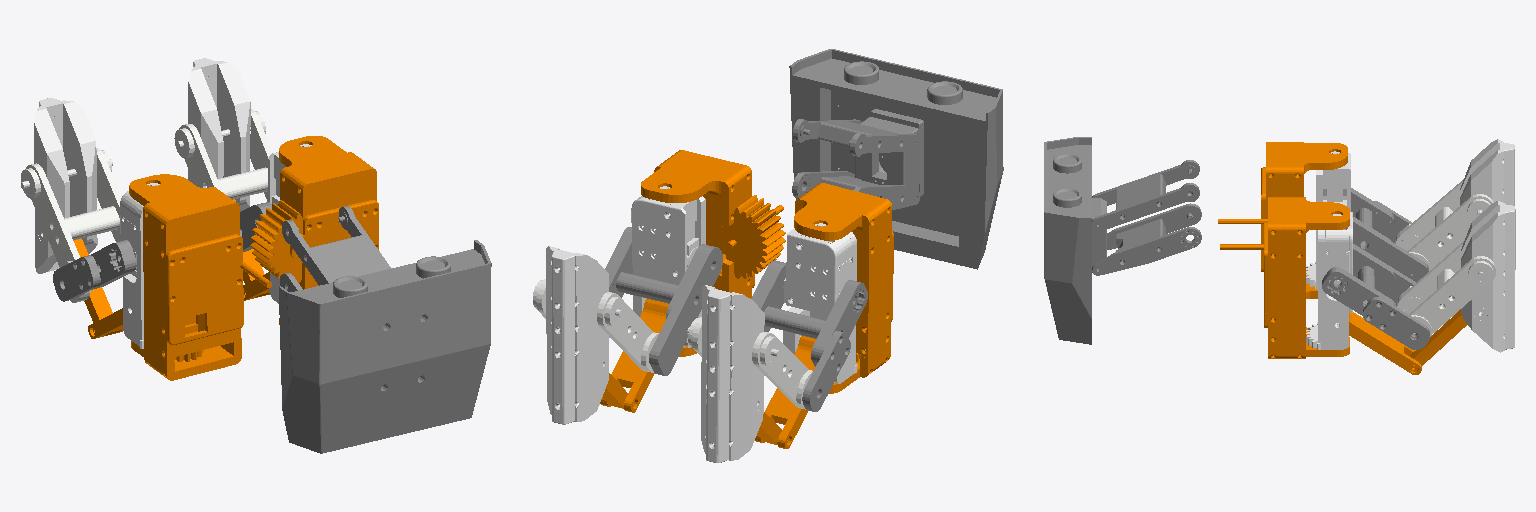
--- Render facts (derived) ---
Views: 3 orthographic renders of the robot side by side, from view 1: azimuth 30°, elevation 25°; view 2: azimuth 150°, elevation 25°; view 3: azimuth 270°, elevation 25°.
Model GEDroid-new.SLDASM with 22 links and 21 joints (16 continuous, 5 fixed), rooted at base_link, posed all joints at 0.
Links seen in each view (by area): view 1: link1, link6, link14, link12, link21, link10, link3, link18, link8, link7, link15, link11 (+2 smaller); view 2: link1, link14, link12, link21, link6, link8, link16, link7, link15, link3, link18, link10 (+4 smaller); view 3: link1, link14, link21, link16, link5, link18, link6, link3, link10, link15, link8, link12 (+4 smaller).
Link boxes in pixels (x1,y1,x2,y2): link1: [279, 240, 491, 453]; link6: [129, 174, 271, 380]; link14: [250, 136, 378, 324]; link12: [21, 98, 112, 273]; link21: [177, 58, 250, 211]; link10: [21, 148, 136, 302]; link3: [282, 206, 391, 285]; link18: [174, 109, 272, 201]; link8: [53, 240, 136, 301]; link7: [120, 183, 159, 348]; link15: [268, 144, 311, 303]; link11: [74, 239, 117, 336]; link1: [789, 49, 1003, 269]; link14: [641, 150, 785, 356]; link12: [687, 285, 779, 462]; link21: [546, 246, 622, 424]; link6: [794, 183, 893, 393]; link8: [751, 260, 867, 411]; link16: [605, 227, 722, 375]; link7: [783, 223, 857, 383]; link15: [631, 186, 705, 347]; link3: [793, 119, 920, 156]; link18: [533, 279, 658, 372]; link10: [688, 317, 812, 409]; link1: [1044, 137, 1091, 344]; link14: [1220, 197, 1349, 358]; link21: [1461, 201, 1515, 352]; link16: [1322, 244, 1429, 349]; link5: [1092, 203, 1201, 275]; link18: [1397, 240, 1495, 336]; link6: [1218, 142, 1347, 298]; link3: [1092, 160, 1199, 231]; link10: [1395, 179, 1493, 270]; link15: [1306, 212, 1352, 349]; link8: [1351, 188, 1428, 282]; link12: [1460, 139, 1514, 217].
Bounding box of the posed robot: 0.329 × 0.6574 × 0.2568 m (x, y, z).
Meshes: 22 distinct files referenced, 18 mesh visuals loaded (18 binary STL); not drawn: 4 (reference not matched to a file when rendering).

URDF robot description (GEDroid-new.SLDASM):
<?xml version="1.0" encoding="utf-8"?>
<!-- This URDF was automatically created by SolidWorks to URDF Exporter! Originally created by Stephen Brawner ([email redacted]) 
     Commit Version: 1.6.0-4-g7f85cfe  Build Version: 1.6.7995.38578
     For more information, please see http://wiki.ros.org/sw_urdf_exporter -->
<robot
  name="GEDroid-new.SLDASM">
  <link
    name="base_link">
    <inertial>
      <origin
        xyz="-0.0171680659676554 -0.137610530913037 0.0114698204231181"
        rpy="0 0 0" />
      <mass
        value="2.89181640391736" />
      <inertia
        ixx="0.0160644836095748"
        ixy="-7.92926913645102E-06"
        ixz="-7.97889809739415E-06"
        iyy="0.0148133437841239"
        iyz="0.000100838990521549"
        izz="0.00388511018553173" />
    </inertial>
    <visual>
      <origin
        xyz="0 0 0"
        rpy="0 0 0" />
      <geometry>
        <mesh
          filename="package://GEDroid-new.SLDASM/meshes/base_link.STL" />
      </geometry>
      <material
        name="">
        <color
          rgba="0.964705882352941 0.964705882352941 0.952941176470588 1" />
      </material>
    </visual>
    <collision>
      <origin
        xyz="0 0 0"
        rpy="0 0 0" />
      <geometry>
        <mesh
          filename="package://GEDroid-new.SLDASM/meshes/base_link.STL" />
      </geometry>
    </collision>
  </link>
  <link
    name="link3">
    <inertial>
      <origin
        xyz="-0.0156883250154336 0.0234336407860933 0.0662660362246067"
        rpy="0 0 0" />
      <mass
        value="0.141492024382892" />
      <inertia
        ixx="0.00014087753143704"
        ixy="-7.84067507326524E-19"
        ixz="-3.74884658345556E-18"
        iyy="0.000160668017730118"
        iyz="-4.12408877520651E-05"
        izz="5.86303587779097E-05" />
    </inertial>
    <visual>
      <origin
        xyz="0 0 0"
        rpy="0 0 0" />
      <geometry>
        <mesh
          filename="package://GEDroid-new.SLDASM/meshes/link3.STL" />
      </geometry>
      <material
        name="">
        <color
          rgba="0.627450980392157 0.627450980392157 0.627450980392157 1" />
      </material>
    </visual>
    <collision>
      <origin
        xyz="0 0 0"
        rpy="0 0 0" />
      <geometry>
        <mesh
          filename="package://GEDroid-new.SLDASM/meshes/link3.STL" />
      </geometry>
    </collision>
  </link>
  <joint
    name="joint3"
    type="continuous">
    <origin
      xyz="0 -0.214944053003405 0.132709052825817"
      rpy="2.27521799628306 0 0" />
    <parent
      link="base_link" />
    <child
      link="link3" />
    <axis
      xyz="1 0 0" />
  </joint>
  <link
    name="link5">
    <inertial>
      <origin
        xyz="-0.0171735409335834 0.0226936862307067 0.0639654406322349"
        rpy="0 0 0" />
      <mass
        value="0.152064515546557" />
      <inertia
        ixx="0.000149446997147015"
        ixy="3.46945124618924E-08"
        ixz="9.98764762980526E-08"
        iyy="0.000166143101497851"
        iyz="-4.30878667154814E-05"
        izz="6.14784192929815E-05" />
    </inertial>
    <visual>
      <origin
        xyz="0 0 0"
        rpy="0 0 0" />
      <geometry>
        <mesh
          filename="package://GEDroid-new.SLDASM/meshes/link5.STL" />
      </geometry>
      <material
        name="">
        <color
          rgba="0.627450980392157 0.627450980392157 0.627450980392157 1" />
      </material>
    </visual>
    <collision>
      <origin
        xyz="0 0 0"
        rpy="0 0 0" />
      <geometry>
        <mesh
          filename="package://GEDroid-new.SLDASM/meshes/link5.STL" />
      </geometry>
    </collision>
  </link>
  <joint
    name="joint5"
    type="continuous">
    <origin
      xyz="0 -0.214944053003395 0.0626985300479472"
      rpy="2.27511756114906 0 0" />
    <parent
      link="base_link" />
    <child
      link="link5" />
    <axis
      xyz="1 0 0" />
  </joint>
  <link
    name="link4">
    <inertial>
      <origin
        xyz="-0.0169816009653617 0.120192284641954 0.407900747584906"
        rpy="0 0 0" />
      <mass
        value="2.41045606315177" />
      <inertia
        ixx="0.00800362859132821"
        ixy="-7.8112924665467E-06"
        ixz="4.23304714322119E-06"
        iyy="0.0135600450829479"
        iyz="-0.000655726051792349"
        izz="0.0201850951375899" />
    </inertial>
    <visual>
      <origin
        xyz="0 0 0"
        rpy="0 0 0" />
      <geometry>
        <mesh
          filename="package://GEDroid-new.SLDASM/meshes/link4.STL" />
      </geometry>
      <material
        name="">
        <color
          rgba="0.627450980392157 0.627450980392157 0.627450980392157 1" />
      </material>
    </visual>
    <collision>
      <origin
        xyz="0 0 0"
        rpy="0 0 0" />
      <geometry>
        <mesh
          filename="package://GEDroid-new.SLDASM/meshes/link4.STL" />
      </geometry>
    </collision>
  </link>
  <joint
    name="joint4"
    type="fixed">
    <origin
      xyz="0.0010999999999995 -0.276030052204441 -0.0904400054494847"
      rpy="-0.704448986134054 0 0" />
    <parent
      link="link5" />
    <child
      link="link4" />
    <axis
      xyz="0 0 0" />
  </joint>
  <link
    name="link2">
    <inertial>
      <origin
        xyz="-0.0169816009653617 0.120192284642187 0.407900747584995"
        rpy="0 0 0" />
      <mass
        value="2.41045606315177" />
      <inertia
        ixx="0.00800362859132821"
        ixy="-7.81129246654483E-06"
        ixz="4.23304714322087E-06"
        iyy="0.0135600450829479"
        iyz="-0.00065572605179235"
        izz="0.0201850951375899" />
    </inertial>
    <visual>
      <origin
        xyz="0 0 0"
        rpy="0 0 0" />
      <geometry>
        <mesh
          filename="package://GEDroid-new.SLDASM/meshes/link2.STL" />
      </geometry>
      <material
        name="">
        <color
          rgba="0.627450980392157 0.627450980392157 0.627450980392157 1" />
      </material>
    </visual>
    <collision>
      <origin
        xyz="0 0 0"
        rpy="0 0 0" />
      <geometry>
        <mesh
          filename="package://GEDroid-new.SLDASM/meshes/link2.STL" />
      </geometry>
    </collision>
  </link>
  <joint
    name="joint2"
    type="fixed">
    <origin
      xyz="0 0 0"
      rpy="0 0 0" />
    <parent
      link="link4" />
    <child
      link="link2" />
    <axis
      xyz="0 0 0" />
  </joint>
  <link
    name="link1">
    <inertial>
      <origin
        xyz="-0.00118310761270998 0.0345691070633183 0.0590434562565884"
        rpy="0 0 0" />
      <mass
        value="4.46959125265905" />
      <inertia
        ixx="0.0151461602054954"
        ixy="-9.73707243387995E-05"
        ixz="1.81670489698321E-05"
        iyy="0.0264523384789441"
        iyz="-0.00109048349604576"
        izz="0.0390713055528011" />
    </inertial>
    <visual>
      <origin
        xyz="0 0 0"
        rpy="0 0 0" />
      <geometry>
        <mesh
          filename="package://GEDroid-new.SLDASM/meshes/link1.STL" />
      </geometry>
      <material
        name="">
        <color
          rgba="0.627450980392157 0.627450980392157 0.627450980392157 1" />
      </material>
    </visual>
    <collision>
      <origin
        xyz="0 0 0"
        rpy="0 0 0" />
      <geometry>
        <mesh
          filename="package://GEDroid-new.SLDASM/meshes/link1.STL" />
      </geometry>
    </collision>
  </link>
  <joint
    name="joint1"
    type="continuous">
    <origin
      xyz="-0.0162883250154295 0.0920774016114892 0.361154689212294"
      rpy="0 0 -0.0127723155758449" />
    <parent
      link="link2" />
    <child
      link="link1" />
    <axis
      xyz="0 0 0.999999999998669" />
  </joint>
  <link
    name="link6">
    <inertial>
      <origin
        xyz="0.0512412740624006 -0.0186558215582564 -0.080302832204397"
        rpy="0 0 0" />
      <mass
        value="0.875753101445047" />
      <inertia
        ixx="0.00130986342000538"
        ixy="1.73885499806199E-05"
        ixz="-2.82198811183346E-05"
        iyy="0.000721420197925581"
        iyz="-5.23092881416495E-05"
        izz="0.00131948142167411" />
    </inertial>
    <visual>
      <origin
        xyz="0 0 0"
        rpy="0 0 0" />
      <geometry>
        <mesh
          filename="package://GEDroid-new.SLDASM/meshes/link6.STL" />
      </geometry>
      <material
        name="">
        <color
          rgba="1 0.568627450980392 0 1" />
      </material>
    </visual>
    <collision>
      <origin
        xyz="0 0 0"
        rpy="0 0 0" />
      <geometry>
        <mesh
          filename="package://GEDroid-new.SLDASM/meshes/link6.STL" />
      </geometry>
    </collision>
  </link>
  <joint
    name="joint6"
    type="continuous">
    <origin
      xyz="-0.0594766500308766 0 0.0499999999999993"
      rpy="1.5707963267949 0.0442781073947316 -3.14159265358979" />
    <parent
      link="base_link" />
    <child
      link="link6" />
    <axis
      xyz="0 0 1" />
  </joint>
  <link
    name="link7">
    <inertial>
      <origin
        xyz="-0.00216652497389841 -0.0156926949911633 -0.00562187419421987"
        rpy="0 0 0" />
      <mass
        value="0.45837132802261" />
      <inertia
        ixx="0.000718579467841965"
        ixy="-3.54999622179201E-06"
        ixz="-2.8140513263357E-06"
        iyy="0.000225027564088276"
        iyz="6.16006189858157E-05"
        izz="0.000848031886301961" />
    </inertial>
    <visual>
      <origin
        xyz="0 0 0"
        rpy="0 0 0" />
      <geometry>
        <mesh
          filename="package://GEDroid-new.SLDASM/meshes/link7.STL" />
      </geometry>
      <material
        name="">
        <color
          rgba="0.96078431372549 0.96078431372549 0.964705882352941 1" />
      </material>
    </visual>
    <collision>
      <origin
        xyz="0 0 0"
        rpy="0 0 0" />
      <geometry>
        <mesh
          filename="package://GEDroid-new.SLDASM/meshes/link7.STL" />
      </geometry>
    </collision>
  </link>
  <joint
    name="joint7"
    type="continuous">
    <origin
      xyz="0.0609551702062409 0.00105847856445156 -0.0125139999999875"
      rpy="0 0.0276219332956401 0" />
    <parent
      link="link6" />
    <child
      link="link7" />
    <axis
      xyz="0 1 0" />
  </joint>
  <link
    name="link8">
    <inertial>
      <origin
        xyz="-0.00653539807492051 -0.0405954231712672 0.040597232802714"
        rpy="0 0 0" />
      <mass
        value="0.238182644819532" />
      <inertia
        ixx="0.000349756035321919"
        ixy="-4.13281181981358E-06"
        ixz="3.9525513379463E-06"
        iyy="0.000181258287787399"
        iyz="0.000145459473153057"
        izz="0.000215676280131395" />
    </inertial>
    <visual>
      <origin
        xyz="0 0 0"
        rpy="0 0 0" />
      <geometry>
        <mesh
          filename="package://GEDroid-new.SLDASM/meshes/link8.STL" />
      </geometry>
      <material
        name="">
        <color
          rgba="0.627450980392157 0.627450980392157 0.627450980392157 1" />
      </material>
    </visual>
    <collision>
      <origin
        xyz="0 0 0"
        rpy="0 0 0" />
      <geometry>
        <mesh
          filename="package://GEDroid-new.SLDASM/meshes/link8.STL" />
      </geometry>
    </collision>
  </link>
  <joint
    name="joint8"
    type="continuous">
    <origin
      xyz="-0.00146822424739357 -0.00989154548080343 -4.056550952127E-05"
      rpy="-0.245697682753295 0 0" />
    <parent
      link="link7" />
    <child
      link="link8" />
    <axis
      xyz="1 0 0" />
  </joint>
  <link
    name="link10">
    <inertial>
      <origin
        xyz="-2.27327725795118E-05 0.0386787629718439 0.0401895200274374"
        rpy="0 0 0" />
      <mass
        value="0.162169448593694" />
      <inertia
        ixx="0.000328813345469538"
        ixy="9.98368587846297E-06"
        ixz="1.02109077903781E-05"
        iyy="0.000186580494256216"
        iyz="-0.000144543544484592"
        izz="0.000179724663519201" />
    </inertial>
    <visual>
      <origin
        xyz="0 0 0"
        rpy="0 0 0" />
      <geometry>
        <mesh
          filename="package://GEDroid-new.SLDASM/meshes/link10.STL" />
      </geometry>
      <material
        name="">
        <color
          rgba="0.964705882352941 0.964705882352941 0.952941176470588 1" />
      </material>
    </visual>
    <collision>
      <origin
        xyz="0 0 0"
        rpy="0 0 0" />
      <geometry>
        <mesh
          filename="package://GEDroid-new.SLDASM/meshes/link10.STL" />
      </geometry>
    </collision>
  </link>
  <joint
    name="joint10"
    type="continuous">
    <origin
      xyz="0 -0.0895685175599561 0.092541526184674"
      rpy="0.263294622664939 0 0" />
    <parent
      link="link8" />
    <child
      link="link10" />
    <axis
      xyz="1 0 0" />
  </joint>
  <link
    name="link12">
    <inertial>
      <origin
        xyz="0.0803037556590576 0.0112319207405951 0.210505879104301"
        rpy="0 0 0" />
      <mass
        value="0.452431108793929" />
      <inertia
        ixx="0.00127925908593735"
        ixy="3.86723142556189E-05"
        ixz="1.03706869794754E-06"
        iyy="9.38392180881101E-05"
        iyz="-1.83110176118289E-06"
        izz="0.00124492269832378" />
    </inertial>
    <visual>
      <origin
        xyz="0 0 0"
        rpy="0 0 0" />
      <geometry>
        <mesh
          filename="package://GEDroid-new.SLDASM/meshes/link12.STL" />
      </geometry>
      <material
        name="">
        <color
          rgba="0.96078431372549 0.96078431372549 0.964705882352941 1" />
      </material>
    </visual>
    <collision>
      <origin
        xyz="0 0 0"
        rpy="0 0 0" />
      <geometry>
        <mesh
          filename="package://GEDroid-new.SLDASM/meshes/link12.STL" />
      </geometry>
    </collision>
  </link>
  <joint
    name="joint12"
    type="fixed">
    <origin
      xyz="-0.0838099844441524 0.0448099765319289 -0.108524774330036"
      rpy="-0.0174862174405892 0 0" />
    <parent
      link="link10" />
    <child
      link="link12" />
    <axis
      xyz="0 0 0" />
  </joint>
  <link
    name="link9">
    <inertial>
      <origin
        xyz="0.00309049775500662 -0.0395692531573744 0.0375646928657304"
        rpy="0 0 0" />
      <mass
        value="0.0932425739186278" />
      <inertia
        ixx="0.000148889837706386"
        ixy="-7.43183019895178E-07"
        ixz="2.73916844871099E-08"
        iyy="8.04379818916381E-05"
        iyz="7.08479726322004E-05"
        izz="9.70122319235416E-05" />
    </inertial>
    <visual>
      <origin
        xyz="0 0 0"
        rpy="0 0 0" />
      <geometry>
        <mesh
          filename="package://GEDroid-new.SLDASM/meshes/link9.STL" />
      </geometry>
      <material
        name="">
        <color
          rgba="1 0.568627450980392 0 1" />
      </material>
    </visual>
    <collision>
      <origin
        xyz="0 0 0"
        rpy="0 0 0" />
      <geometry>
        <mesh
          filename="package://GEDroid-new.SLDASM/meshes/link9.STL" />
      </geometry>
    </collision>
  </link>
  <joint
    name="jjoint9"
    type="continuous">
    <origin
      xyz="0 -0.0774566864775221 -1.43725865874578E-05"
      rpy="-0.245667046654869 0 0" />
    <parent
      link="link7" />
    <child
      link="link9" />
    <axis
      xyz="1 0 0" />
  </joint>
  <link
    name="link11">
    <inertial>
      <origin
        xyz="0.000961297617652665 0.0419611601788669 0.0435707531710885"
        rpy="0 0 0" />
      <mass
        value="0.0459716984586627" />
      <inertia
        ixx="7.40085888995002E-05"
        ixy="2.1085789759488E-06"
        ixz="2.161325584764E-06"
        iyy="3.94508848329673E-05"
        iyz="-3.58543851419154E-05"
        izz="3.77553451643221E-05" />
    </inertial>
    <visual>
      <origin
        xyz="0 0 0"
        rpy="0 0 0" />
      <geometry>
        <mesh
          filename="package://GEDroid-new.SLDASM/meshes/link11.STL" />
      </geometry>
      <material
        name="">
        <color
          rgba="1 0.568627450980392 0 1" />
      </material>
    </visual>
    <collision>
      <origin
        xyz="0 0 0"
        rpy="0 0 0" />
      <geometry>
        <mesh
          filename="package://GEDroid-new.SLDASM/meshes/link11.STL" />
      </geometry>
    </collision>
  </link>
  <joint
    name="joint11"
    type="continuous">
    <origin
      xyz="0 -0.0919191799401484 0.0919191799401376"
      rpy="0.263263986566531 0 0" />
    <parent
      link="link9" />
    <child
      link="link11" />
    <axis
      xyz="1 0 0" />
  </joint>
  <link
    name="link13">
    <inertial>
      <origin
        xyz="0.0803037556590719 0.0112319207404568 0.210505879104278"
        rpy="0 0 0" />
      <mass
        value="0.452431108793929" />
      <inertia
        ixx="0.00127925908593734"
        ixy="3.86723142556188E-05"
        ixz="1.03706869794753E-06"
        iyy="9.38392180881099E-05"
        iyz="-1.83110176118287E-06"
        izz="0.00124492269832378" />
    </inertial>
    <visual>
      <origin
        xyz="0 0 0"
        rpy="0 0 0" />
      <geometry>
        <mesh
          filename="package://GEDroid-new.SLDASM/meshes/link13.STL" />
      </geometry>
      <material
        name="">
        <color
          rgba="0.96078431372549 0.96078431372549 0.964705882352941 1" />
      </material>
    </visual>
    <collision>
      <origin
        xyz="0 0 0"
        rpy="0 0 0" />
      <geometry>
        <mesh
          filename="package://GEDroid-new.SLDASM/meshes/link13.STL" />
      </geometry>
    </collision>
  </link>
  <joint
    name="joint13"
    type="fixed">
    <origin
      xyz="-0.0852782086915455 0.114799274931599 -0.10974874717343"
      rpy="-0.0174862174406072 0 0" />
    <parent
      link="link11" />
    <child
      link="link13" />
    <axis
      xyz="0 0 0" />
  </joint>
  <link
    name="link14">
    <inertial>
      <origin
        xyz="0.0254859747699427 0.0178399678408832 0.0782120182696826"
        rpy="0 0 0" />
      <mass
        value="2.0001936642267" />
      <inertia
        ixx="0.0027746949489558"
        ixy="2.64188016661135E-06"
        ixz="2.15159139613216E-07"
        iyy="0.00151431624329031"
        iyz="-0.000102728221254846"
        izz="0.00278444423468377" />
    </inertial>
    <visual>
      <origin
        xyz="0 0 0"
        rpy="0 0 0" />
      <geometry>
        <mesh
          filename="package://GEDroid-new.SLDASM/meshes/link14.STL" />
      </geometry>
      <material
        name="">
        <color
          rgba="1 0.568627450980392 0 1" />
      </material>
    </visual>
    <collision>
      <origin
        xyz="0 0 0"
        rpy="0 0 0" />
      <geometry>
        <mesh
          filename="package://GEDroid-new.SLDASM/meshes/link14.STL" />
      </geometry>
    </collision>
  </link>
  <joint
    name="joint14"
    type="continuous">
    <origin
      xyz="0.0254999999999987 0 0.0499999999999993"
      rpy="-1.5707963267949 -0.00571159415028269 3.14159265358979" />
    <parent
      link="base_link" />
    <child
      link="link14" />
    <axis
      xyz="0 0 1" />
  </joint>
  <link
    name="link15">
    <inertial>
      <origin
        xyz="-0.00219374277029309 -0.0126971301575152 0.00488912738406339"
        rpy="0 0 0" />
      <mass
        value="0.472144245348398" />
      <inertia
        ixx="0.0007504164801036"
        ixy="-1.93763071590823E-05"
        ixz="2.55037370245849E-06"
        iyy="0.00023343207356342"
        iyz="-6.06058478201766E-05"
        izz="0.000888427937486772" />
    </inertial>
    <visual>
      <origin
        xyz="0 0 0"
        rpy="0 0 0" />
      <geometry>
        <mesh
          filename="package://GEDroid-new.SLDASM/meshes/link15.STL" />
      </geometry>
      <material
        name="">
        <color
          rgba="0.96078431372549 0.96078431372549 0.964705882352941 1" />
      </material>
    </visual>
    <collision>
      <origin
        xyz="0 0 0"
        rpy="0 0 0" />
      <geometry>
        <mesh
          filename="package://GEDroid-new.SLDASM/meshes/link15.STL" />
      </geometry>
    </collision>
  </link>
  <joint
    name="joint15"
    type="continuous">
    <origin
      xyz="-0.060339930319045 0.00408384397892164 0.00939022117508485"
      rpy="0 -0.0325936033957732 3.14159265358979" />
    <parent
      link="link14" />
    <child
      link="link15" />
    <axis
      xyz="0 1 0" />
  </joint>
  <link
    name="link16">
    <inertial>
      <origin
        xyz="-0.009080480614842 -0.040709162410423 0.0451864459101035"
        rpy="0 0 0" />
      <mass
        value="0.238182644819532" />
      <inertia
        ixx="0.000349275765809278"
        ixy="-9.30625211410535E-06"
        ixz="9.52355350341211E-06"
        iyy="0.000204583792398507"
        iyz="0.000146109414098503"
        izz="0.000192831045032929" />
    </inertial>
    <visual>
      <origin
        xyz="0 0 0"
        rpy="0 0 0" />
      <geometry>
        <mesh
          filename="package://GEDroid-new.SLDASM/meshes/link16.STL" />
      </geometry>
      <material
        name="">
        <color
          rgba="0.627450980392157 0.627450980392157 0.627450980392157 1" />
      </material>
    </visual>
    <collision>
      <origin
        xyz="0 0 0"
        rpy="0 0 0" />
      <geometry>
        <mesh
          filename="package://GEDroid-new.SLDASM/meshes/link16.STL" />
      </geometry>
    </collision>
  </link>
  <joint
    name="joint16"
    type="continuous">
    <origin
      xyz="0 0 0"
      rpy="1.77420796875247 0 0" />
    <parent
      link="link15" />
    <child
      link="link16" />
    <axis
      xyz="1 0 0" />
  </joint>
  <link
    name="link18">
    <inertial>
      <origin
        xyz="0.00392476856554343 0.0399773647427526 0.0426202839147912"
        rpy="0 0 0" />
      <mass
        value="0.162169448593693" />
      <inertia
        ixx="0.000329376837451513"
        ixy="-4.42754910131225E-06"
        ixz="-4.48975705119678E-06"
        iyy="0.00018285812947759"
        iyz="-0.000144866992066166"
        izz="0.000182883536315852" />
    </inertial>
    <visual>
      <origin
        xyz="0 0 0"
        rpy="0 0 0" />
      <geometry>
        <mesh
          filename="package://GEDroid-new.SLDASM/meshes/link18.STL" />
      </geometry>
      <material
        name="">
        <color
          rgba="0.964705882352941 0.964705882352941 0.952941176470588 1" />
      </material>
    </visual>
    <collision>
      <origin
        xyz="0 0 0"
        rpy="0 0 0" />
      <geometry>
        <mesh
          filename="package://GEDroid-new.SLDASM/meshes/link18.STL" />
      </geometry>
    </collision>
  </link>
  <joint
    name="joint18"
    type="continuous">
    <origin
      xyz="-0.00133196969037826 -0.0913780469211709 0.0924569002163598"
      rpy="-1.35741915051425 0 -3.14159265358975" />
    <parent
      link="link16" />
    <child
      link="link18" />
    <axis
      xyz="1 0 0" />
  </joint>
  <link
    name="link20">
    <inertial>
      <origin
        xyz="0.0776645575740605 0.0147727564500926 -0.212097619929147"
        rpy="0 0 0" />
      <mass
        value="0.452294772172764" />
      <inertia
        ixx="0.00128167348554608"
        ixy="2.61629945975682E-06"
        ixz="-1.40558644931405E-06"
        iyy="9.11250594765977E-05"
        iyz="3.03288264275973E-06"
        izz="0.00124465643813416" />
    </inertial>
    <visual>
      <origin
        xyz="0 0 0"
        rpy="0 0 0" />
      <geometry>
        <mesh
          filename="package://GEDroid-new.SLDASM/meshes/link20.STL" />
      </geometry>
      <material
        name="">
        <color
          rgba="0.96078431372549 0.96078431372549 0.964705882352941 1" />
      </material>
    </visual>
    <collision>
      <origin
        xyz="0 0 0"
        rpy="0 0 0" />
      <geometry>
        <mesh
          filename="package://GEDroid-new.SLDASM/meshes/link20.STL" />
      </geometry>
    </collision>
  </link>
  <joint
    name="joint20"
    type="continuous">
    <origin
      xyz="0.082830937131483 0.0446638401381951 -0.108441524368483"
      rpy="-3.13174082239427 0 3.14159265358979" />
    <parent
      link="link18" />
    <child
      link="link20" />
    <axis
      xyz="0.999286561872324 0.00209954342714324 -0.0377088740058346" />
  </joint>
  <link
    name="link17">
    <inertial>
      <origin
        xyz="0.00170427937737623 -0.0399380439619911 0.0385393556846063"
        rpy="0 0 0" />
      <mass
        value="0.0932425739186279" />
      <inertia
        ixx="0.000148760646117843"
        ixy="3.01271568637367E-06"
        ixz="-2.53767647228882E-06"
        iyy="8.59828700306306E-05"
        iyz="7.12252092337783E-05"
        izz="9.15965353730923E-05" />
    </inertial>
    <visual>
      <origin
        xyz="0 0 0"
        rpy="0 0 0" />
      <geometry>
        <mesh
          filename="package://GEDroid-new.SLDASM/meshes/link17.STL" />
      </geometry>
      <material
        name="">
        <color
          rgba="1 0.568627450980392 0 1" />
      </material>
    </visual>
    <collision>
      <origin
        xyz="0 0 0"
        rpy="0 0 0" />
      <geometry>
        <mesh
          filename="package://GEDroid-new.SLDASM/meshes/link17.STL" />
      </geometry>
    </collision>
  </link>
  <joint
    name="joint17"
    type="continuous">
    <origin
      xyz="0 -0.0723143639341467 0"
      rpy="2.9382146647483 0 3.14159265358978" />
    <parent
      link="link15" />
    <child
      link="link17" />
    <axis
      xyz="1 0 0" />
  </joint>
  <link
    name="link19">
    <inertial>
      <origin
        xyz="0.00579096013768479 0.0455684397086393 0.0447885213103204"
        rpy="0 0 0" />
      <mass
        value="0.0459716984586628" />
      <inertia
        ixx="7.40802007280732E-05"
        ixy="-1.44380923495022E-06"
        ixz="-1.39234078886598E-06"
        iyy="3.75645676971897E-05"
        iyz="-3.58860013931776E-05"
        izz="3.95700504715274E-05" />
    </inertial>
    <visual>
      <origin
        xyz="0 0 0"
        rpy="0 0 0" />
      <geometry>
        <mesh
          filename="package://GEDroid-new.SLDASM/meshes/link19.STL" />
      </geometry>
      <material
        name="">
        <color
          rgba="1 0.568627450980392 0 1" />
      </material>
    </visual>
    <collision>
      <origin
        xyz="0 0 0"
        rpy="0 0 0" />
      <geometry>
        <mesh
          filename="package://GEDroid-new.SLDASM/meshes/link19.STL" />
      </geometry>
    </collision>
  </link>
  <joint
    name="joint19"
    type="continuous">
    <origin
      xyz="0 -0.0919191799401364 0.0919191799401356"
      rpy="0.213343523164576 0 0" />
    <parent
      link="link17" />
    <child
      link="link19" />
    <axis
      xyz="1 0 0" />
  </joint>
  <link
    name="link21">
    <inertial>
      <origin
        xyz="0.0776645575740622 0.0147727564500685 -0.212097619929132"
        rpy="0 0 0" />
      <mass
        value="0.452294772172764" />
      <inertia
        ixx="0.00128167348554608"
        ixy="2.61629945975662E-06"
        ixz="-1.40558644931405E-06"
        iyy="9.11250594765977E-05"
        iyz="3.03288264275975E-06"
        izz="0.00124465643813416" />
    </inertial>
    <visual>
      <origin
        xyz="0 0 0"
        rpy="0 0 0" />
      <geometry>
        <mesh
          filename="package://GEDroid-new.SLDASM/meshes/link21.STL" />
      </geometry>
      <material
        name="">
        <color
          rgba="0.96078431372549 0.96078431372549 0.964705882352941 1" />
      </material>
    </visual>
    <collision>
      <origin
        xyz="0 0 0"
        rpy="0 0 0" />
      <geometry>
        <mesh
          filename="package://GEDroid-new.SLDASM/meshes/link21.STL" />
      </geometry>
    </collision>
  </link>
  <joint
    name="joint21"
    type="fixed">
    <origin
      xyz="0.0841629068218648 0.116338240088584 -0.109568232180929"
      rpy="-3.13174082239426 0 -3.14159265358979" />
    <parent
      link="link19" />
    <child
      link="link21" />
    <axis
      xyz="0 0 0" />
  </joint>
</robot>
